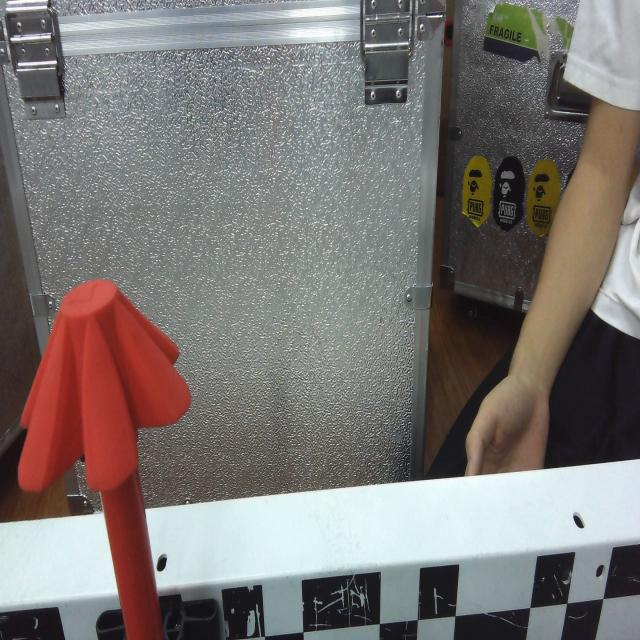zred-Stake-Head: (18, 278, 192, 493)
